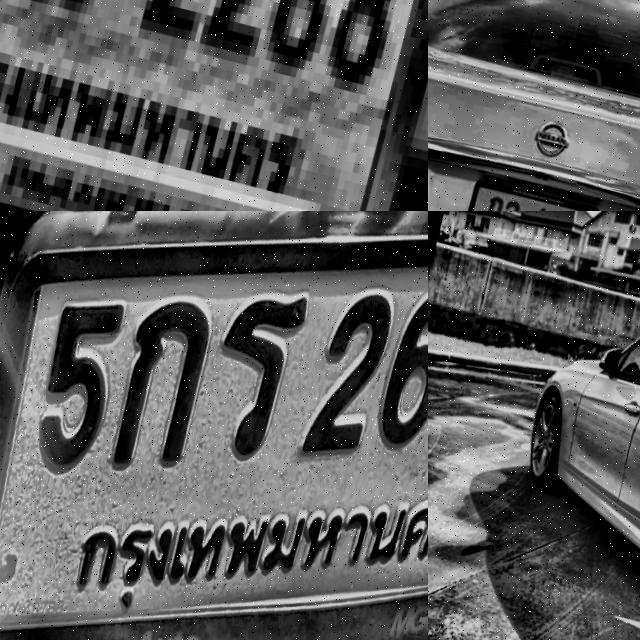license-plate: (0, 211, 428, 640), (0, 0, 428, 211), (456, 171, 604, 211)
